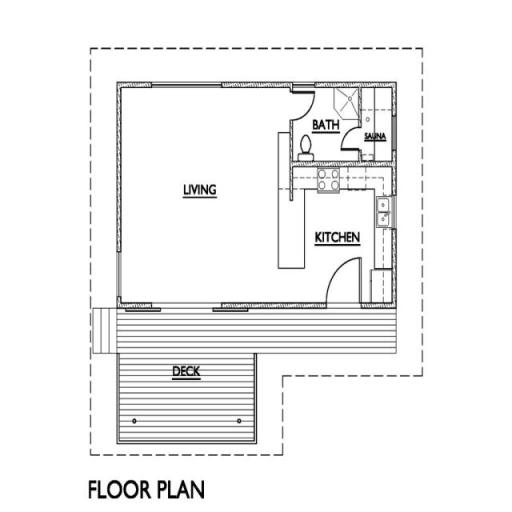bathroom: (299, 79, 396, 165)
hall: (123, 82, 295, 308)
kitchen: (304, 173, 404, 305)
